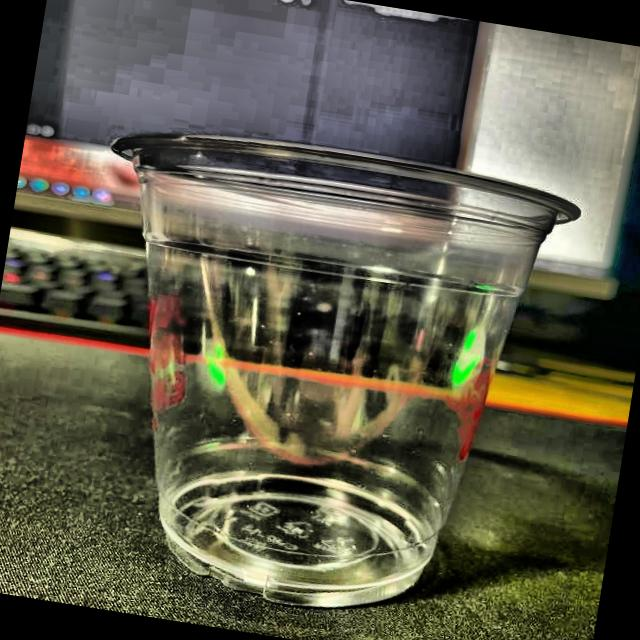plastic cup: (37, 107, 592, 640)
